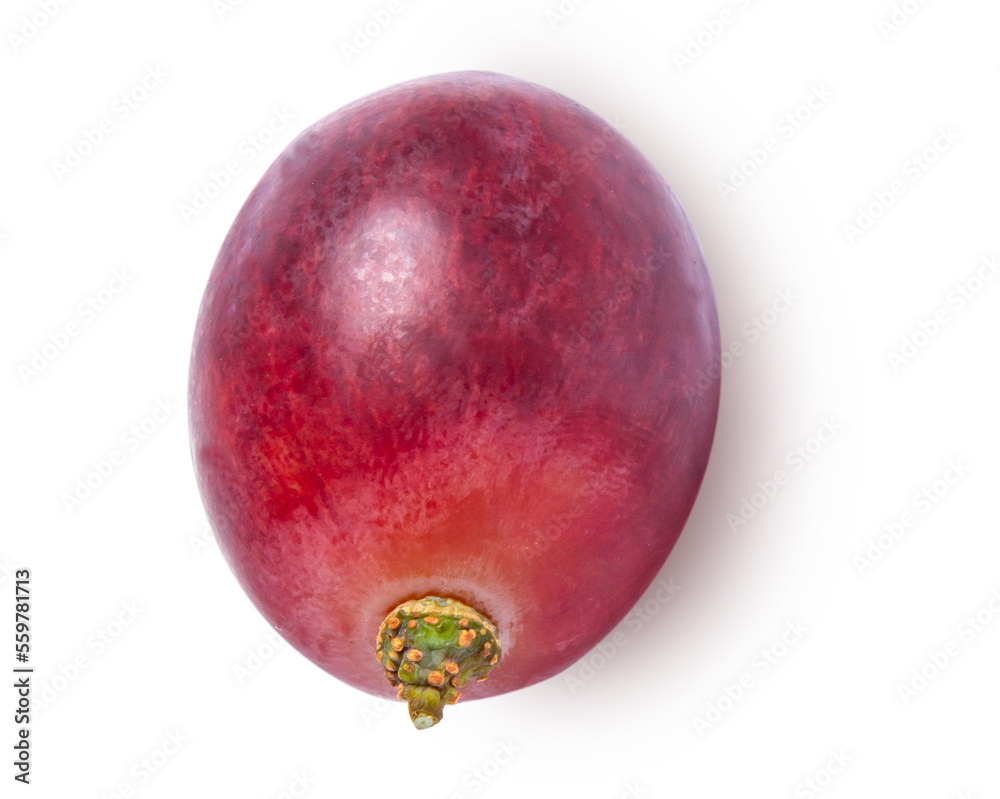grapes: (184, 22, 751, 744)
